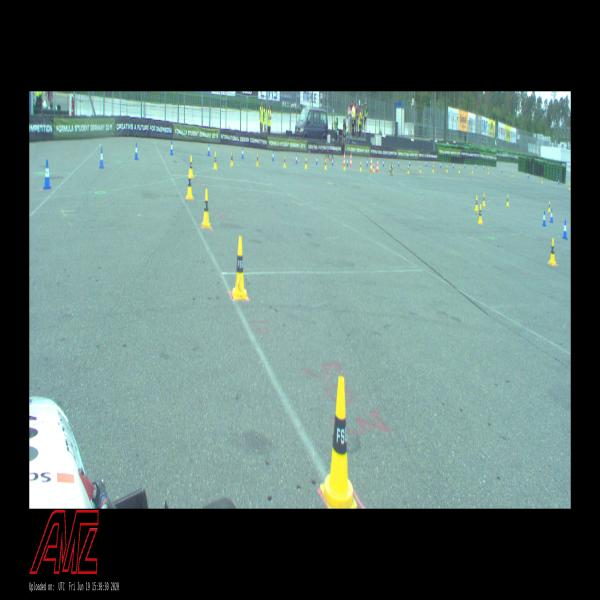blue_cone: (42, 160, 52, 189), (98, 147, 105, 168), (562, 220, 569, 239), (134, 142, 139, 160), (542, 211, 547, 227), (169, 140, 174, 155), (550, 208, 554, 222), (295, 154, 298, 164), (241, 148, 244, 158), (331, 156, 334, 166), (346, 157, 349, 166), (208, 143, 210, 156), (439, 160, 442, 168), (452, 162, 455, 169), (272, 151, 274, 161), (316, 155, 318, 165), (398, 159, 400, 167), (366, 158, 368, 166), (527, 171, 529, 179), (382, 159, 384, 166), (425, 160, 427, 167), (474, 162, 476, 169), (464, 161, 466, 168), (483, 163, 485, 170), (558, 178, 560, 185), (409, 159, 410, 166), (501, 167, 502, 173)
large_orange_cone: (376, 157, 379, 172), (343, 152, 346, 166), (370, 157, 372, 172), (350, 152, 352, 166)
yellow_cone: (320, 376, 357, 508), (231, 236, 249, 301), (201, 188, 212, 228), (548, 238, 558, 266), (186, 169, 194, 200), (212, 151, 218, 170), (478, 205, 483, 224), (189, 154, 193, 176), (474, 196, 479, 211), (230, 151, 234, 167), (255, 154, 260, 166), (482, 192, 486, 206), (506, 194, 509, 207), (305, 157, 308, 169), (548, 201, 551, 212), (324, 159, 327, 170), (359, 162, 362, 171), (284, 155, 286, 168), (458, 166, 461, 174), (419, 166, 422, 173), (373, 162, 375, 172), (343, 160, 345, 170), (407, 166, 409, 174), (471, 166, 473, 174), (511, 170, 513, 178), (432, 165, 434, 172), (487, 167, 489, 174), (541, 176, 543, 183), (568, 183, 570, 190), (446, 166, 448, 172)
